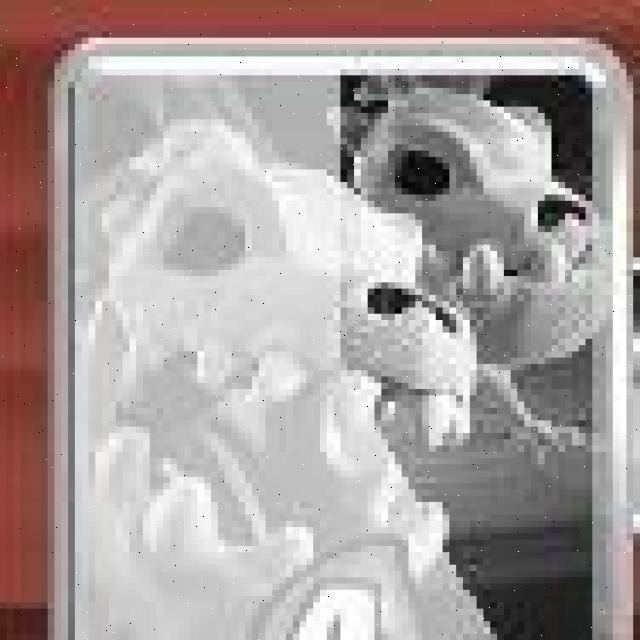Skeleton_Dragons: (54, 42, 640, 640)
